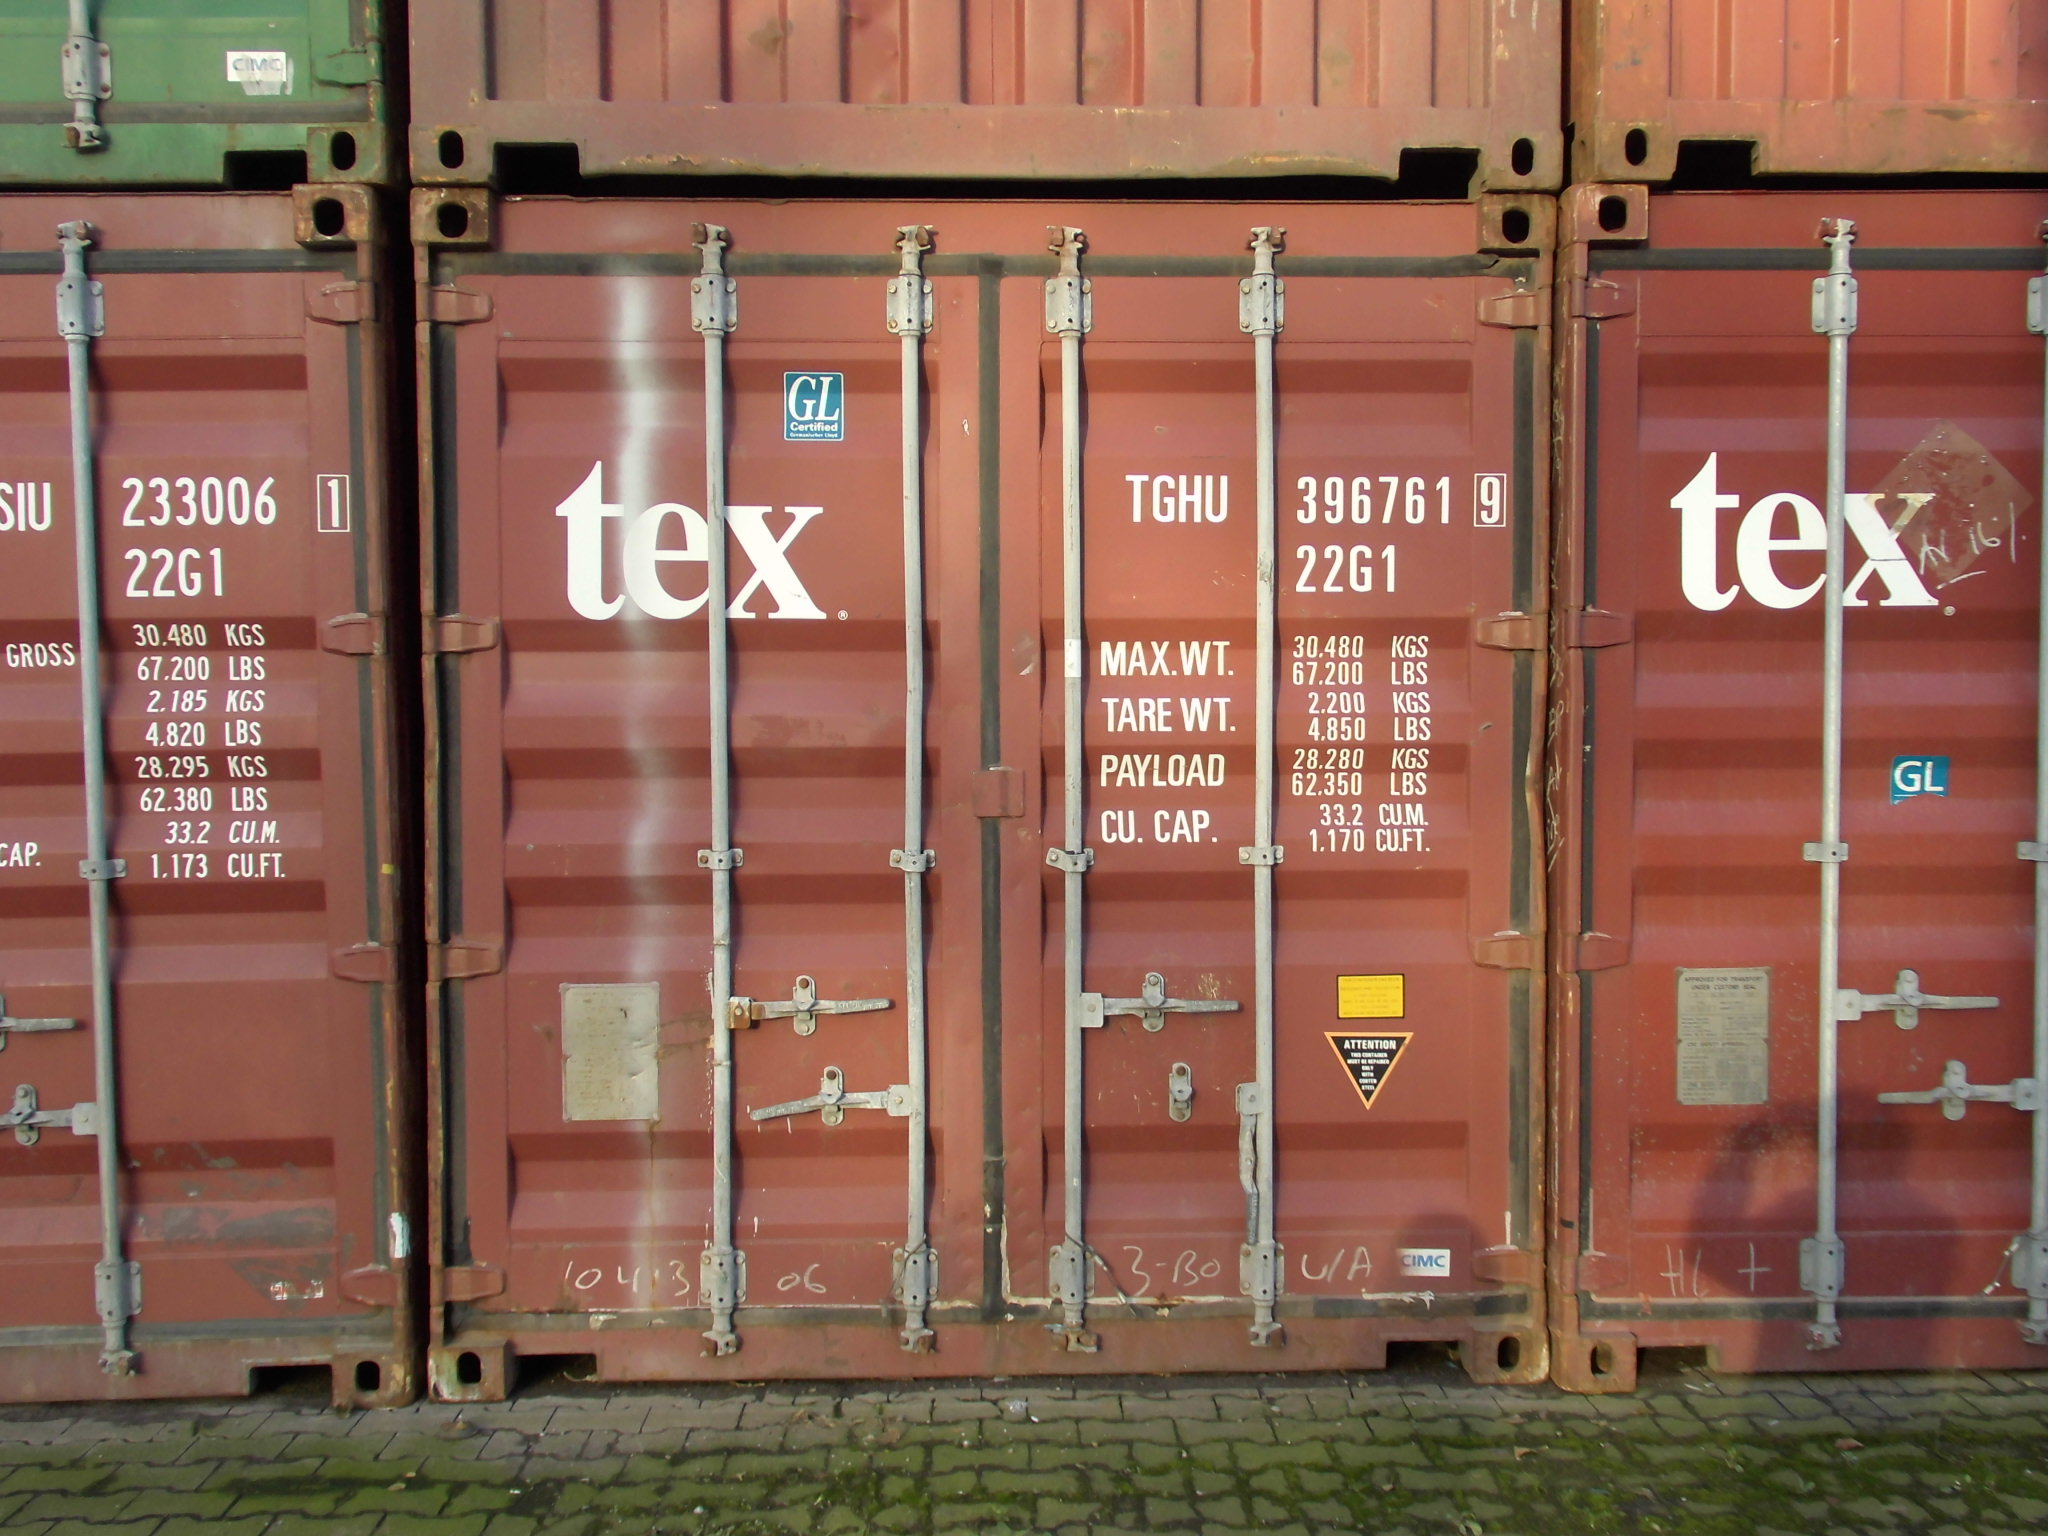container_door: (398, 174, 1561, 1391)
